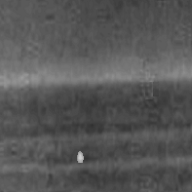Target: (75, 149, 85, 164)
